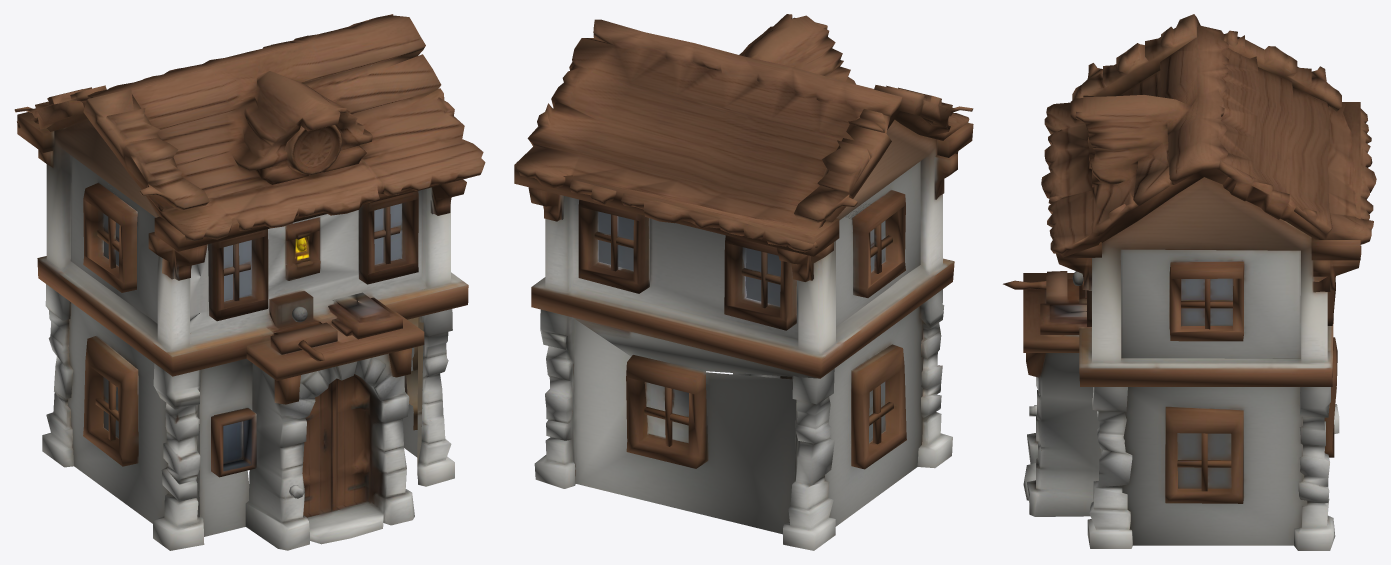
Rendered from bank.glb.
3 renders of one model, left to right at view 1: azimuth 30°, elevation 25°; view 2: azimuth 150°, elevation 25°; view 3: azimuth 270°, elevation 25°, orthographic. The views are drawn at different scales.
Visible parts, largest first — view 1: tripo_node_9dd873d4-a666-4d65-8605-295488d90bf2; view 2: tripo_node_9dd873d4-a666-4d65-8605-295488d90bf2; view 3: tripo_node_9dd873d4-a666-4d65-8605-295488d90bf2.
Part boxes in pixels (bbox=[...]): tripo_node_9dd873d4-a666-4d65-8605-295488d90bf2: bbox=[14, 14, 485, 550]; tripo_node_9dd873d4-a666-4d65-8605-295488d90bf2: bbox=[514, 14, 973, 550]; tripo_node_9dd873d4-a666-4d65-8605-295488d90bf2: bbox=[1003, 14, 1376, 550].
Size of the model in its own units: 0.8418 by 0.998 by 0.8652.
1 material, 1 textured.
